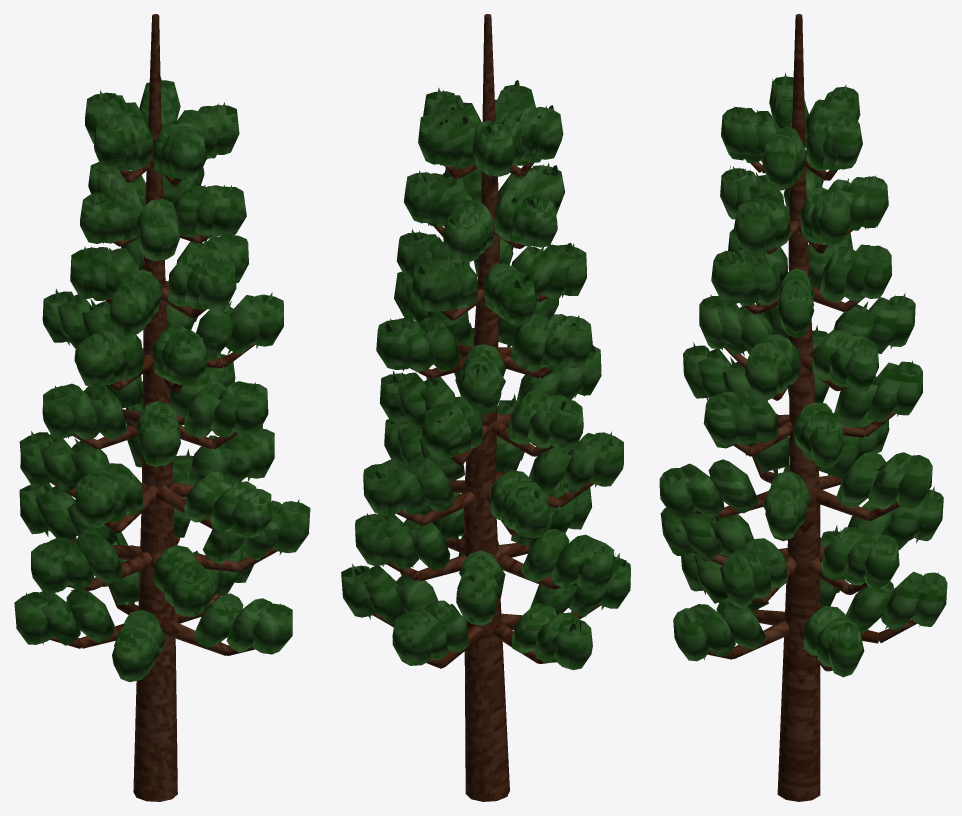
The model's file is pine01-lod0.glb.
3 views of the same model, side by side, from view 1: azimuth 30°, elevation 25°; view 2: azimuth 150°, elevation 25°; view 3: azimuth 270°, elevation 25° (orthographic).
Visible parts, largest first — view 1: TZ_pine_Batch_01_LOD0, TZ_pine_Batch_00_LOD0; view 2: TZ_pine_Batch_01_LOD0, TZ_pine_Batch_00_LOD0, TZ_pine_Batch_02_LOD0; view 3: TZ_pine_Batch_01_LOD0, TZ_pine_Batch_00_LOD0.
Part boxes in pixels (left/top/right/bottom): TZ_pine_Batch_01_LOD0: left=14, top=76, right=310, bottom=682; TZ_pine_Batch_00_LOD0: left=49, top=14, right=276, bottom=801; TZ_pine_Batch_01_LOD0: left=341, top=81, right=630, bottom=670; TZ_pine_Batch_00_LOD0: left=373, top=14, right=600, bottom=801; TZ_pine_Batch_02_LOD0: left=354, top=80, right=626, bottom=631; TZ_pine_Batch_01_LOD0: left=659, top=72, right=947, bottom=677; TZ_pine_Batch_00_LOD0: left=693, top=14, right=916, bottom=801.
Size of the model in its own units: 3.64 by 10.8 by 3.63.
Materials: 3 (3 with a texture image).
